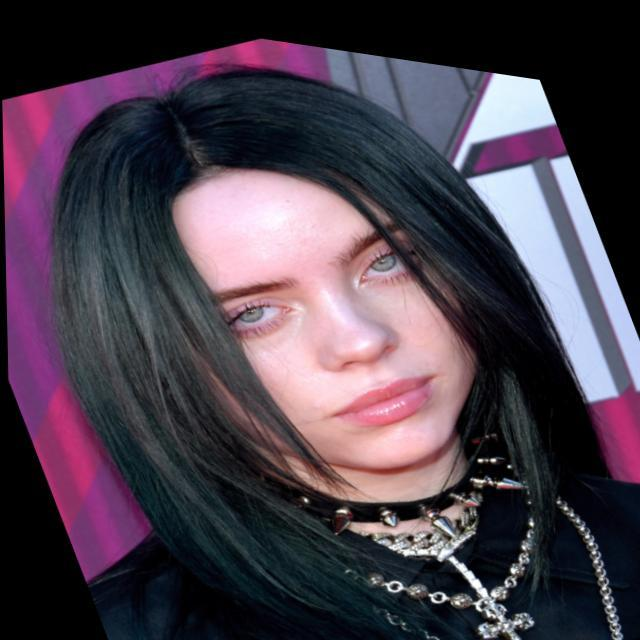Nonhelmet: (46, 63, 551, 559)
